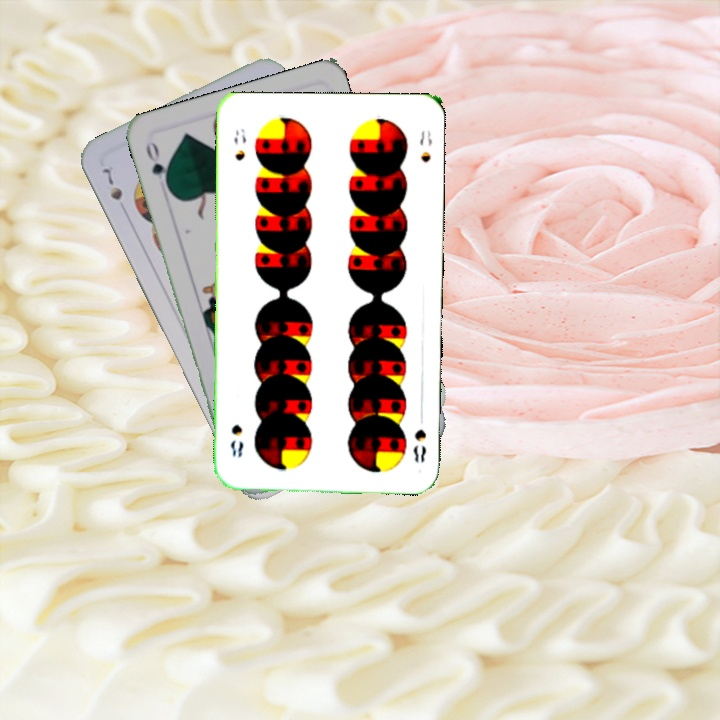GO: (141, 136, 173, 193)
S7: (99, 163, 125, 203)
S8: (409, 425, 429, 465), (230, 124, 249, 163)
